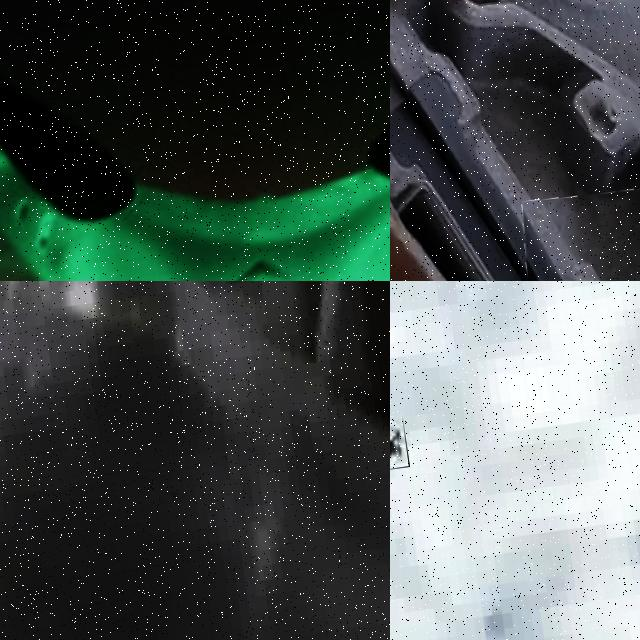0: (390, 414, 410, 472)
drone: (0, 0, 390, 281), (511, 170, 640, 281)
